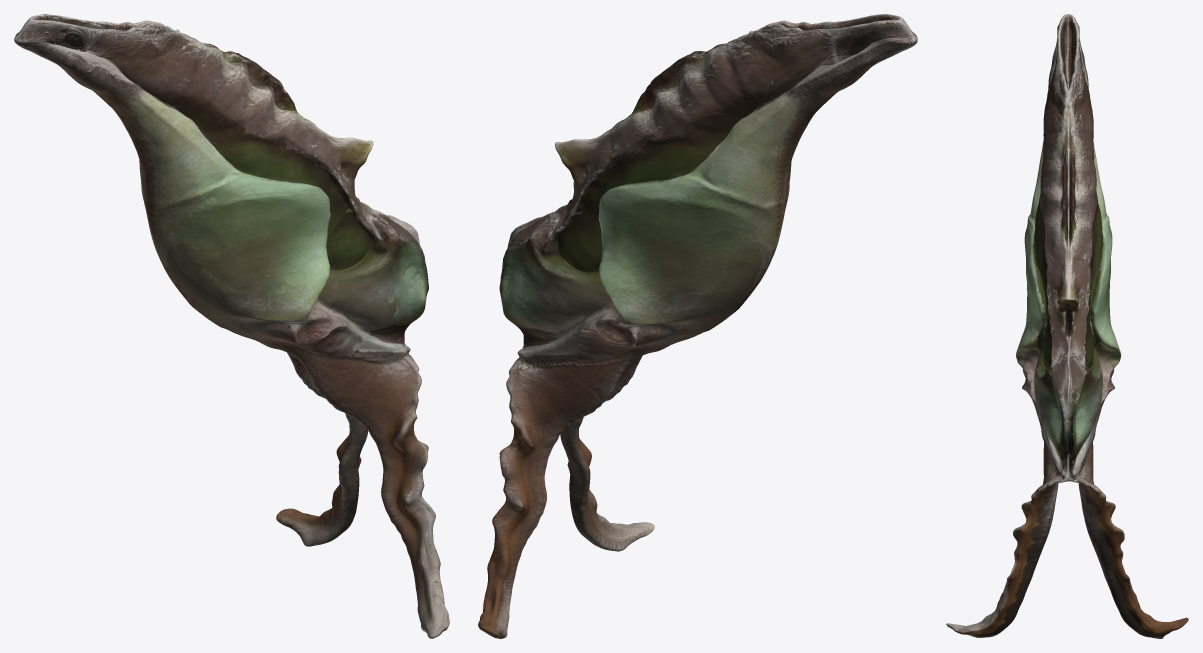
The model's file is crisalida.fbx.
The picture shows the model from 3 angles, left to right: view 1: azimuth 30°, elevation 25°; view 2: azimuth 150°, elevation 25°; view 3: azimuth 270°, elevation 25°; orthographic projection. The views are drawn at different scales.
Parts seen in each view (by area): view 1: tripo_node_6966be8b; view 2: tripo_node_6966be8b; view 3: tripo_node_6966be8b.
Boxes of the visible parts, x1=… form: tripo_node_6966be8b: x1=14, y1=14, x2=449, y2=638; tripo_node_6966be8b: x1=478, y1=14, x2=917, y2=638; tripo_node_6966be8b: x1=946, y1=14, x2=1188, y2=638.
Bounding box in the file's own units: 0.6605 × 1 × 0.4403.
